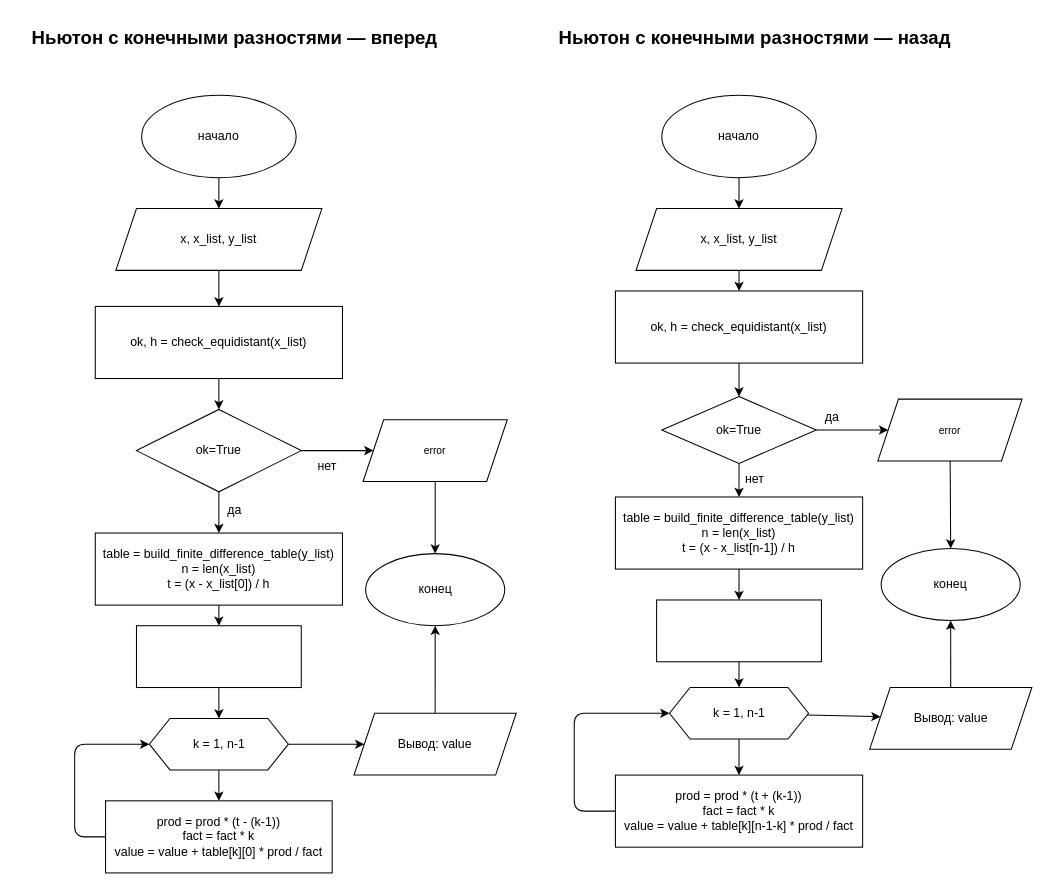
This 1050x891 diagram has some shape labels left out. The shapes that lost their labels are listed below. From the top down, each one's centre as x and y in pixels, then its label:
At (738,630): "value = table[0][n-1] fact = 1, prod = 1".
At (218,656): "value = table[0][0] fact = 1, prod = 1".
